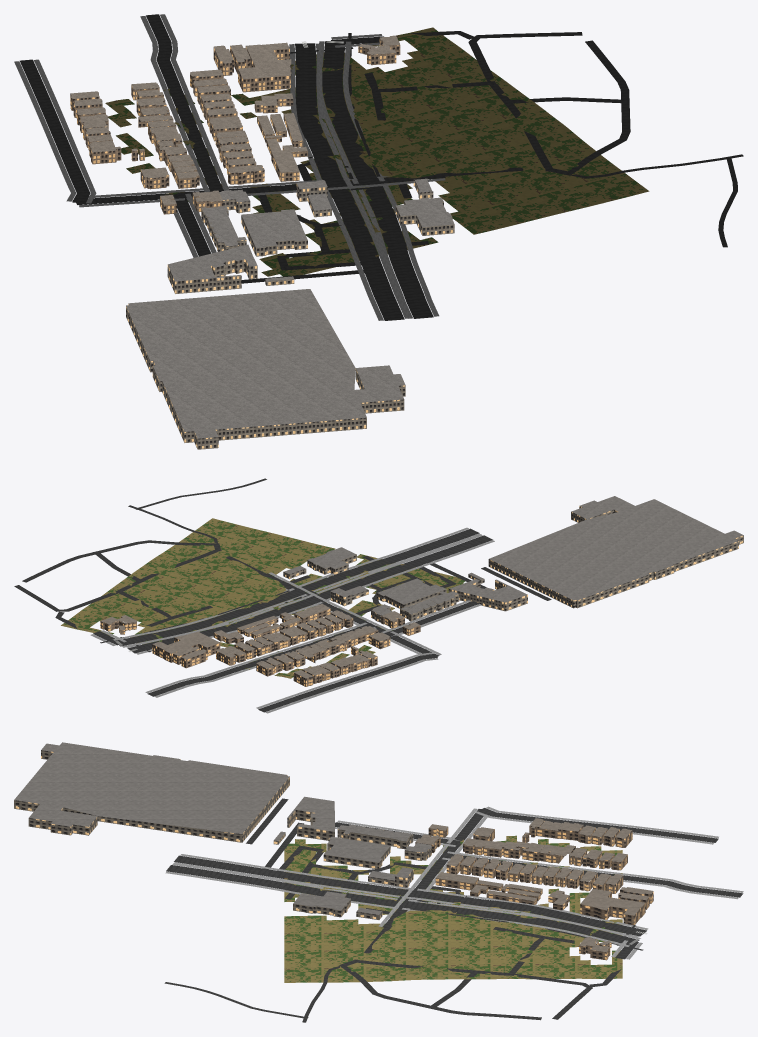
Rendered from tile_37_-1.gltf.
3 renders of one model, top to bottom at view 1: azimuth 30°, elevation 25°; view 2: azimuth 150°, elevation 25°; view 3: azimuth 270°, elevation 25°, orthographic. The views are drawn at different scales.
Parts seen in each view (by area): view 1: Buildings_col, Terrain_col, Roads, Sidewalks; view 2: Buildings_col, Terrain_col, Roads, Sidewalks; view 3: Buildings_col, Terrain_col, Roads, Sidewalks.
Boxes of the visible parts, left/top/right/bottom form: Buildings_col: left=70, top=35, right=454, bottom=449; Terrain_col: left=105, top=27, right=649, bottom=276; Roads: left=20, top=14, right=743, bottom=320; Sidewalks: left=14, top=14, right=445, bottom=320; Buildings_col: left=100, top=496, right=743, bottom=686; Terrain_col: left=61, top=518, right=465, bottom=678; Roads: left=14, top=478, right=551, bottom=712; Sidewalks: left=90, top=527, right=494, bottom=713; Buildings_col: left=14, top=742, right=653, bottom=960; Terrain_col: left=284, top=835, right=622, bottom=982; Roads: left=164, top=798, right=743, bottom=1022; Sidewalks: left=165, top=806, right=743, bottom=959.
Bounding box in the file's own units: 488 × 14.66 × 553.
8 materials, 8 textured.
